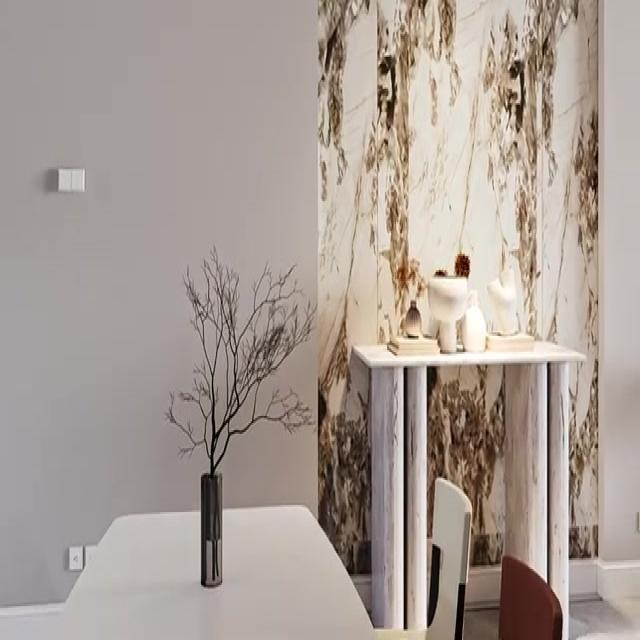obstacle: (350, 336, 586, 638), (62, 503, 376, 638), (373, 476, 472, 638), (497, 552, 562, 638)
